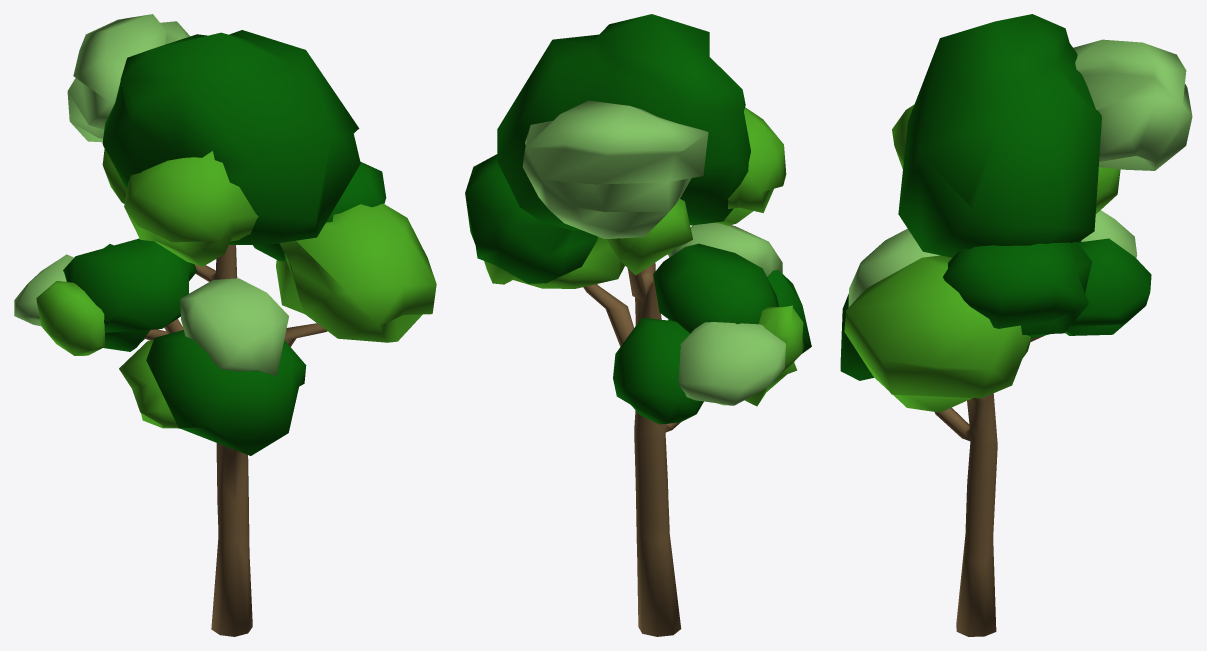
The model's file is Tree_01.fbx.
The picture shows the model from 3 angles, left to right: view 1: azimuth 30°, elevation 25°; view 2: azimuth 150°, elevation 25°; view 3: azimuth 270°, elevation 25°; orthographic projection. The views are drawn at different scales.
Visible parts, largest first — view 1: Tree_01; view 2: Tree_01; view 3: Tree_01.
Boxes of the visible parts, x1,y1,x2,y2 form: Tree_01: [14, 14, 436, 636]; Tree_01: [465, 14, 811, 636]; Tree_01: [840, 14, 1192, 636].
Size of the model in its own units: 1089 by 1801 by 948.
